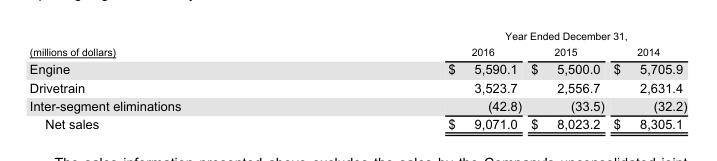table: (28, 29, 686, 130)
table column: (28, 29, 313, 130), (313, 29, 525, 130), (525, 29, 608, 130), (608, 29, 686, 130)
table column header: (28, 29, 686, 59)
table row: (28, 59, 686, 78), (28, 78, 686, 96), (28, 96, 686, 114), (28, 43, 686, 59), (28, 114, 686, 130), (28, 29, 686, 43)
table spanning cell: (28, 29, 313, 59), (313, 29, 686, 43)
